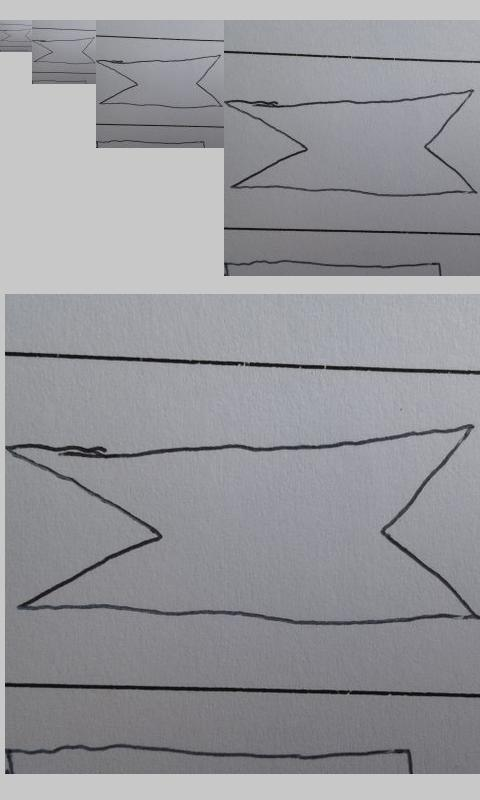edit_text: (9, 424, 480, 627), (226, 89, 476, 198), (96, 54, 223, 109), (32, 37, 95, 65), (1, 28, 32, 43)
